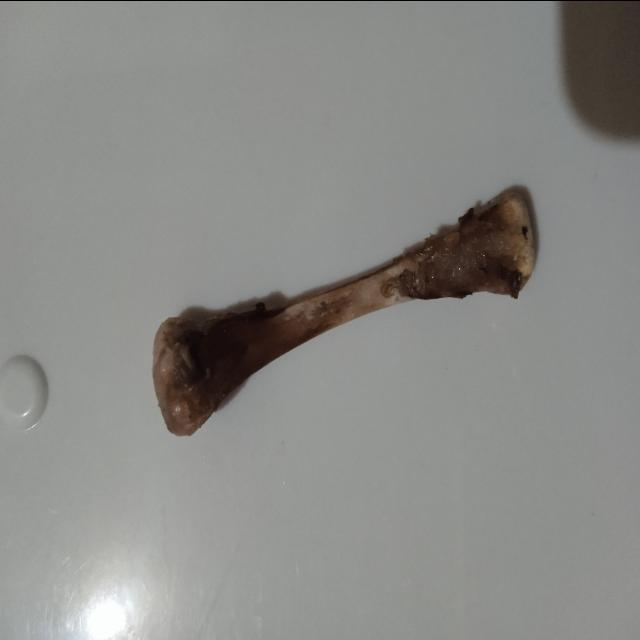bone: (142, 180, 544, 446)
